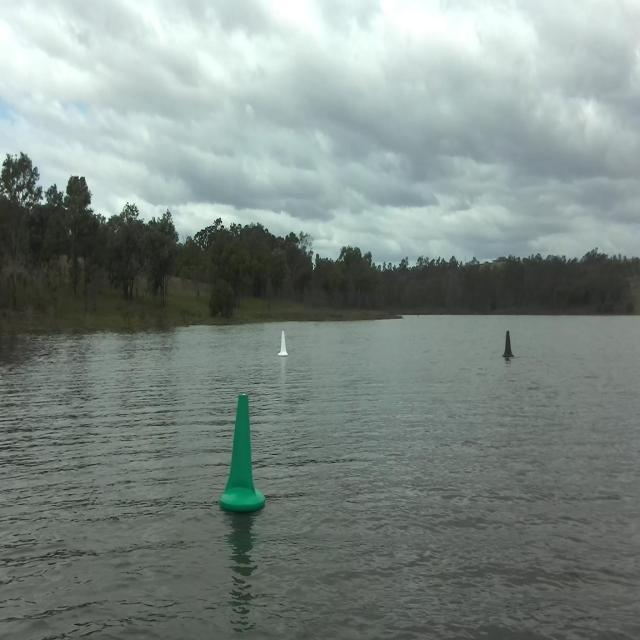Black_Buoy: (492, 325, 530, 372), (499, 329, 523, 364)
Green_Buoy: (215, 392, 283, 518), (218, 393, 276, 514)
White_Buoy: (273, 328, 300, 362), (278, 329, 294, 361)
